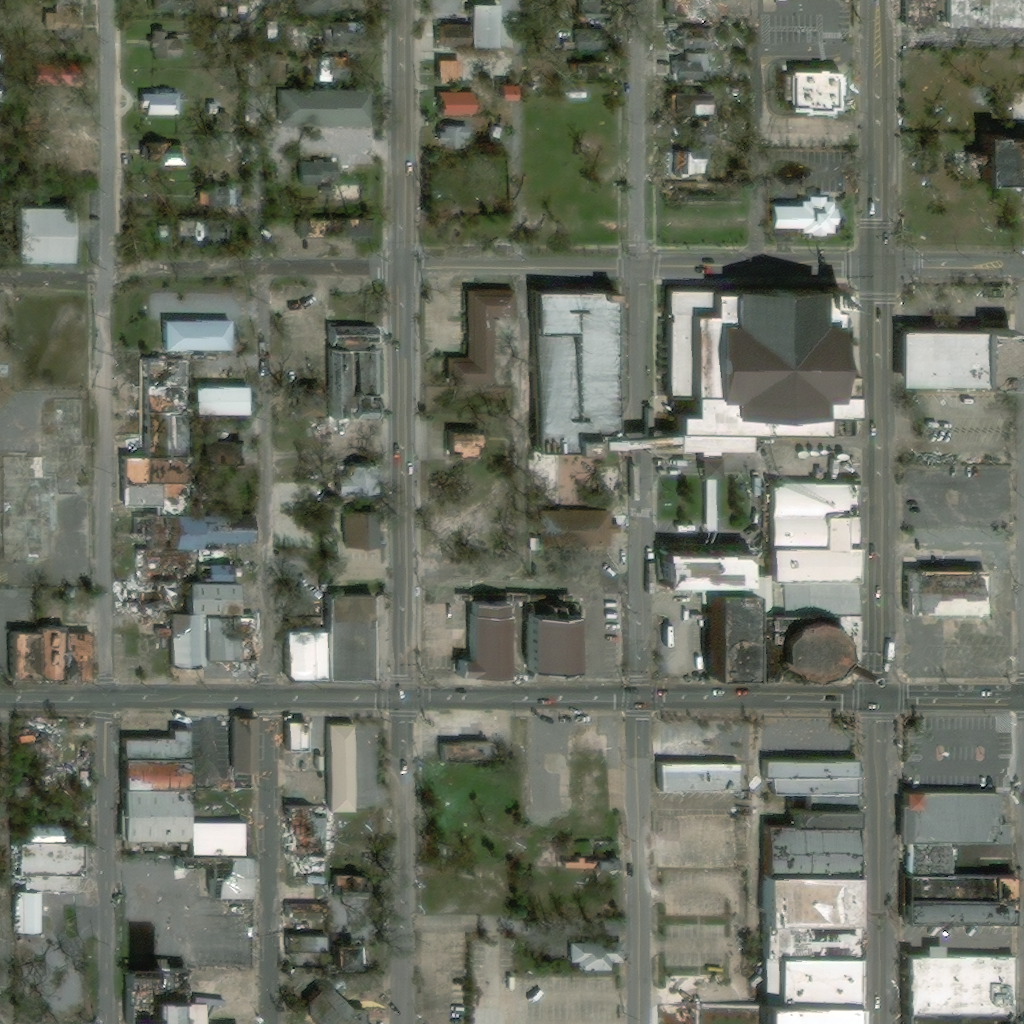destroyed: (665, 22, 715, 48), (665, 0, 701, 17), (989, 93, 1023, 108), (291, 854, 325, 866), (174, 168, 188, 179), (309, 20, 318, 32), (209, 171, 220, 179)
major_damage: (120, 351, 242, 503), (119, 515, 253, 610), (122, 970, 200, 1023), (903, 570, 983, 615), (177, 857, 250, 896), (185, 563, 237, 612), (287, 806, 327, 853), (169, 616, 205, 665), (205, 620, 236, 662), (238, 613, 258, 656)
minor_damage: (454, 291, 514, 385), (904, 875, 1012, 927), (333, 328, 388, 423), (760, 825, 853, 877), (758, 876, 850, 926), (539, 488, 609, 551), (10, 626, 90, 680), (653, 543, 744, 587), (121, 788, 185, 839), (960, 132, 1023, 183), (763, 924, 855, 958), (947, 0, 1023, 29), (281, 631, 325, 679), (121, 759, 185, 788), (302, 212, 370, 239), (229, 717, 256, 776), (439, 740, 492, 762), (664, 150, 704, 179), (299, 378, 325, 421), (902, 0, 937, 28), (447, 432, 483, 458), (181, 214, 214, 242), (668, 52, 709, 74), (320, 54, 352, 81), (147, 141, 182, 165), (336, 945, 365, 973), (203, 187, 238, 209), (286, 721, 309, 749), (286, 908, 314, 925), (163, 226, 172, 239)
no_damage: (527, 287, 854, 478), (763, 482, 858, 583), (902, 949, 1014, 1023), (13, 828, 82, 934), (892, 329, 1014, 386), (897, 792, 1010, 842), (453, 602, 511, 677), (699, 591, 748, 679), (324, 594, 373, 680), (766, 616, 835, 677), (773, 957, 852, 1008), (9, 207, 66, 262), (282, 92, 372, 126), (324, 725, 356, 812), (768, 196, 835, 236), (522, 615, 569, 670), (784, 67, 838, 114), (664, 763, 744, 791), (121, 728, 191, 757), (302, 990, 363, 1023), (162, 322, 228, 352), (470, 3, 513, 46), (188, 823, 244, 854), (344, 512, 385, 552), (769, 777, 854, 795), (765, 761, 857, 777), (570, 943, 622, 970), (193, 385, 247, 411), (905, 842, 950, 872), (758, 1008, 846, 1023), (302, 159, 340, 189), (350, 464, 381, 499), (785, 809, 850, 825), (143, 93, 183, 116), (566, 23, 596, 50), (154, 31, 183, 58), (264, 54, 289, 84), (439, 21, 469, 44), (286, 937, 326, 954), (437, 93, 467, 115), (49, 66, 78, 86), (437, 61, 463, 82), (748, 577, 766, 607), (569, 857, 607, 871), (579, 62, 607, 80), (448, 127, 474, 146), (582, 0, 608, 17), (152, 0, 185, 10), (496, 85, 511, 98), (300, 0, 332, 6), (523, 539, 533, 552), (213, 105, 222, 114), (53, 0, 61, 9)
